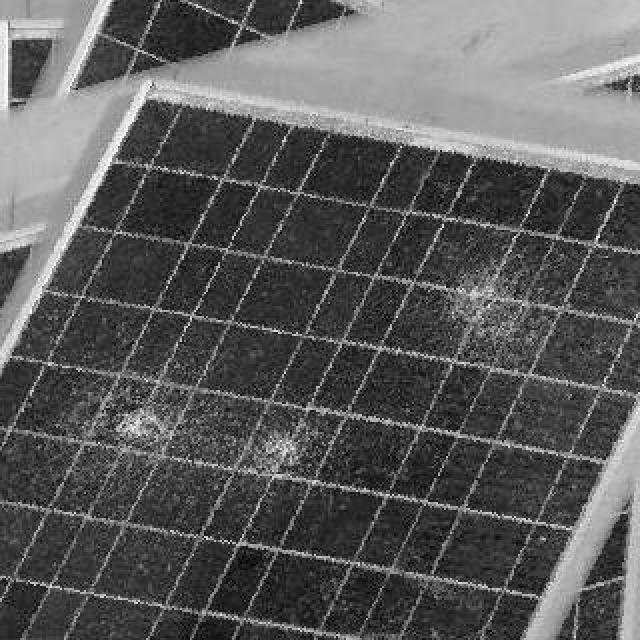Physical-damage: (0, 138, 612, 640)
